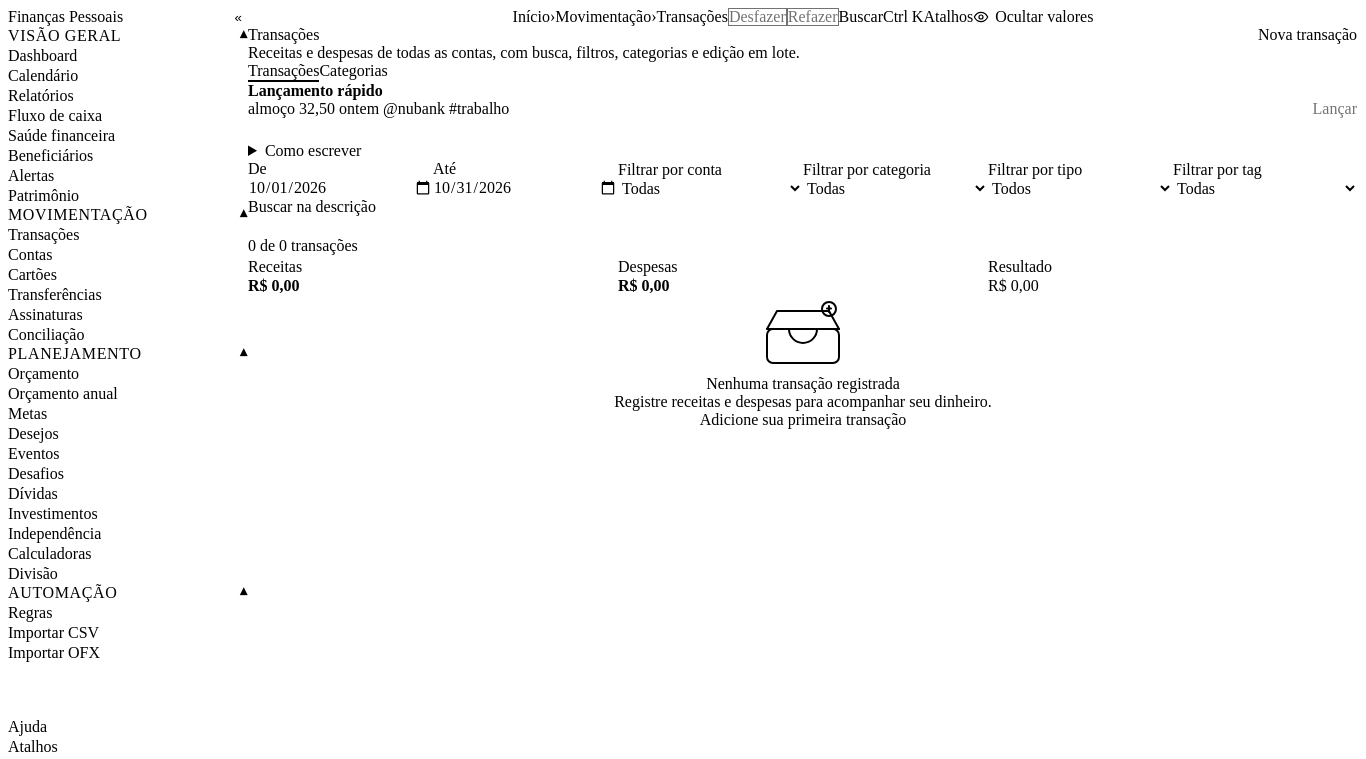
Test: transações: tela › critérios 1 e 3: cria uma despesa filtrando categorias pelo tipo e persiste
Step 1. Click the button "Nova transação" → (1307,35), box [1257, 26, 1358, 44]
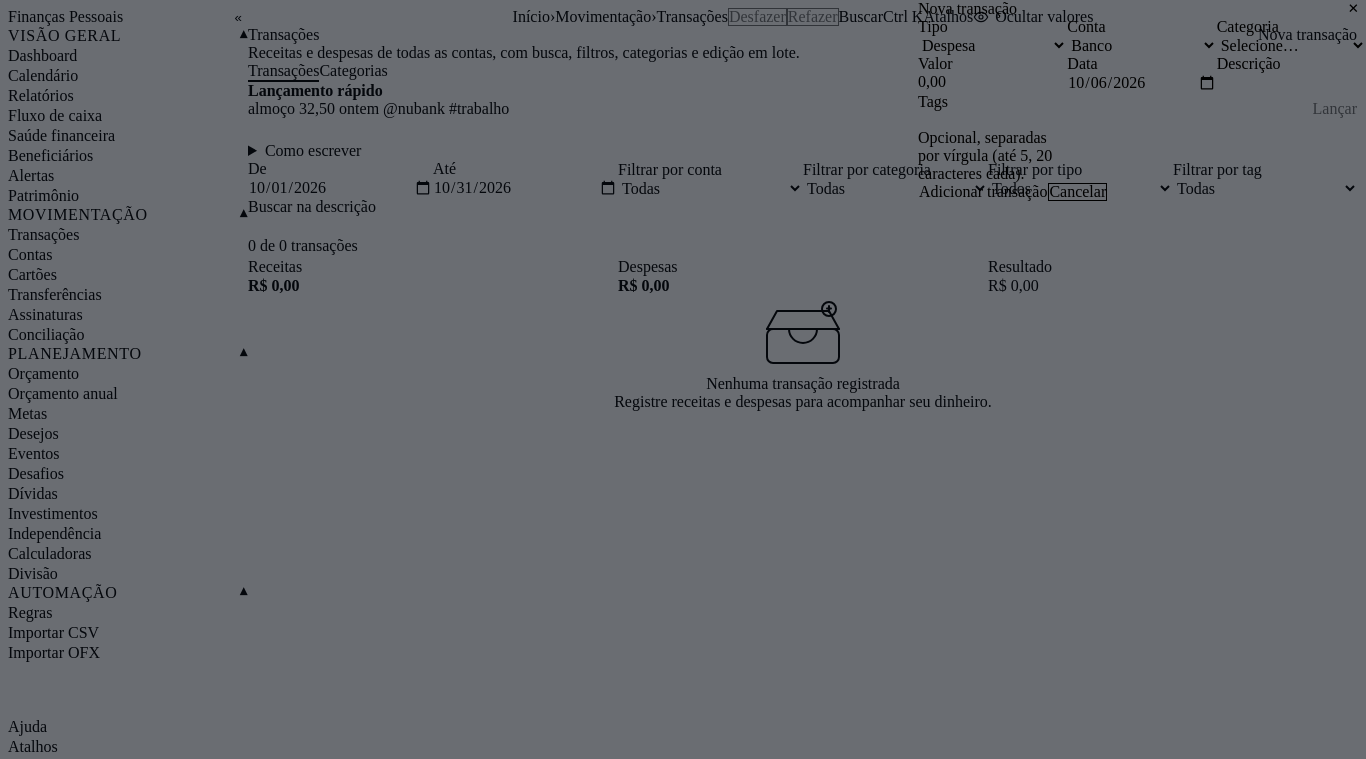
Step 2. Select "Moradia" in the dropdown labelled "Categoria" → (1291,46), box [1217, 36, 1365, 55]
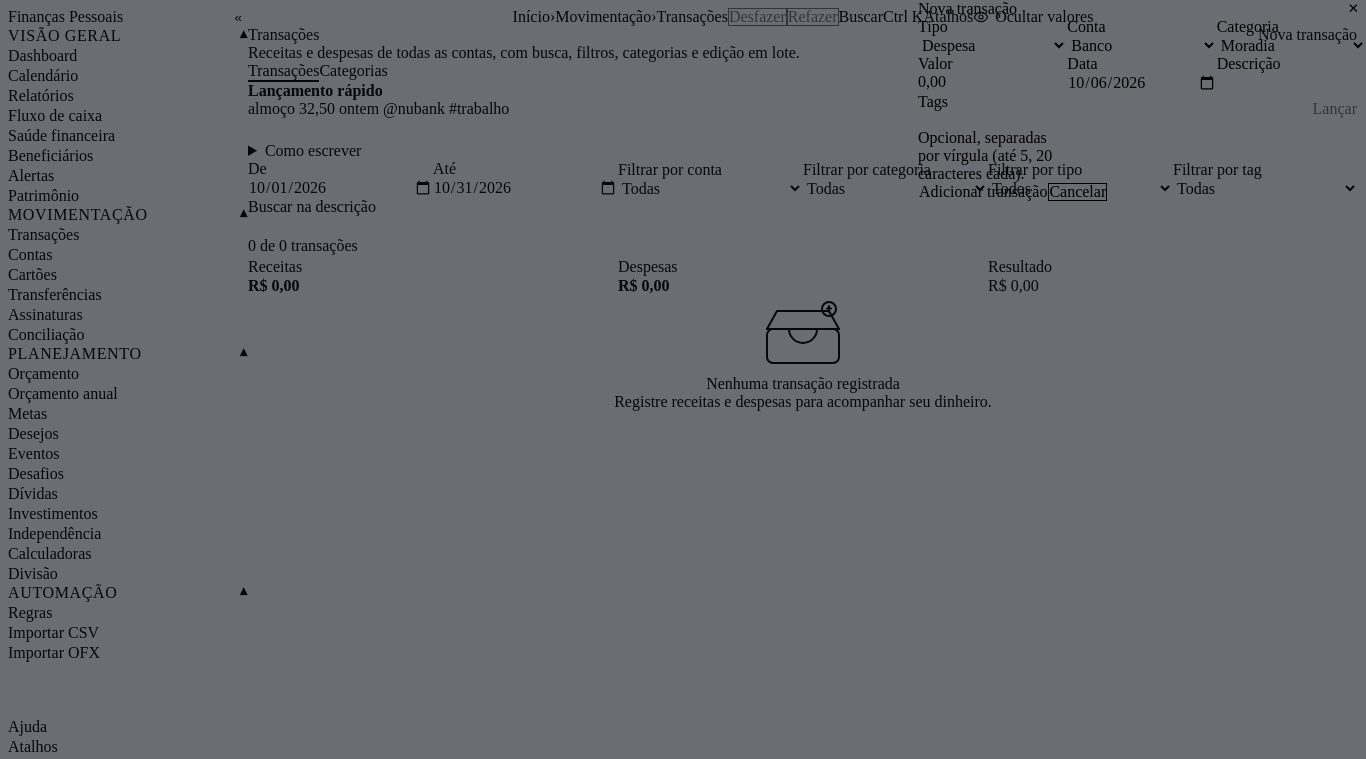
Step 3. Type "150,50" into the field labelled "Valor" → (993,82), box [918, 73, 1067, 91]
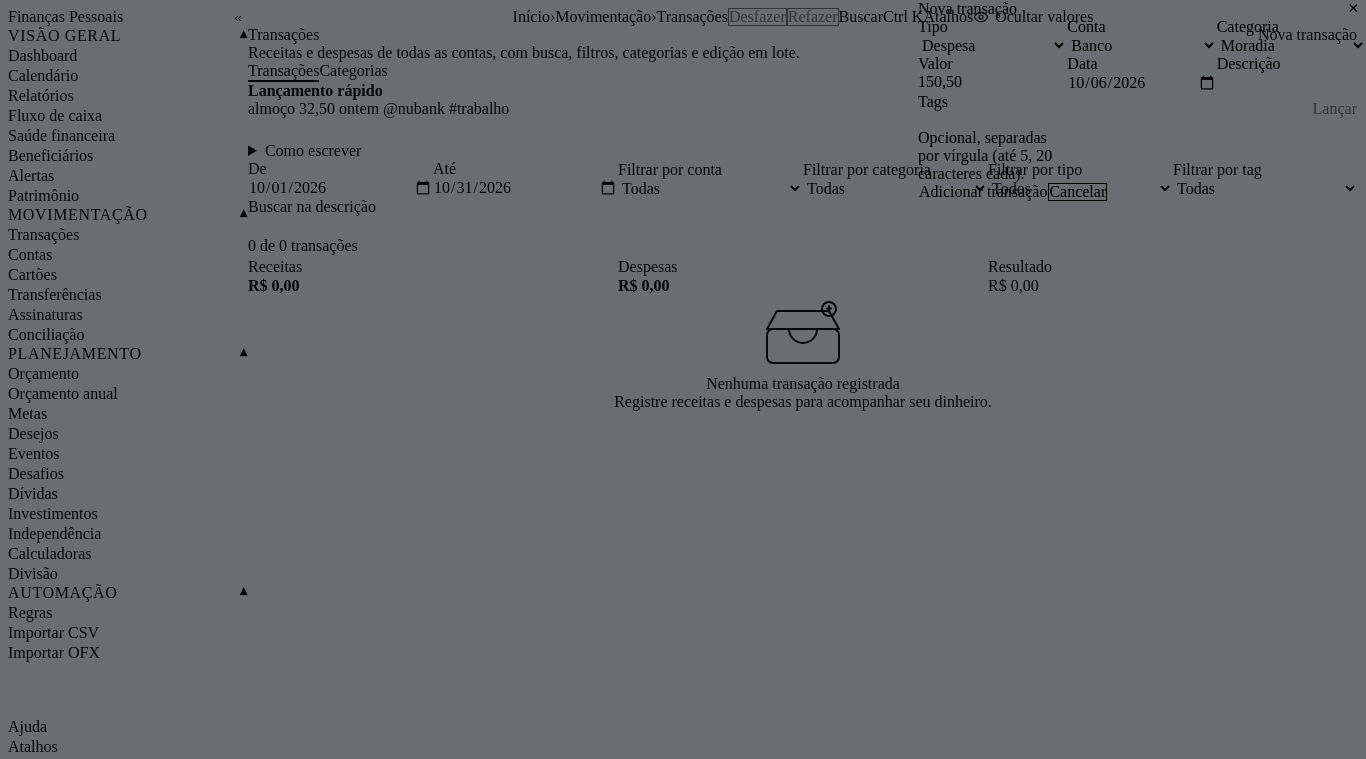
Step 4. Type "Aluguel" into the field labelled "Descrição" → (1291,82), box [1217, 73, 1365, 91]
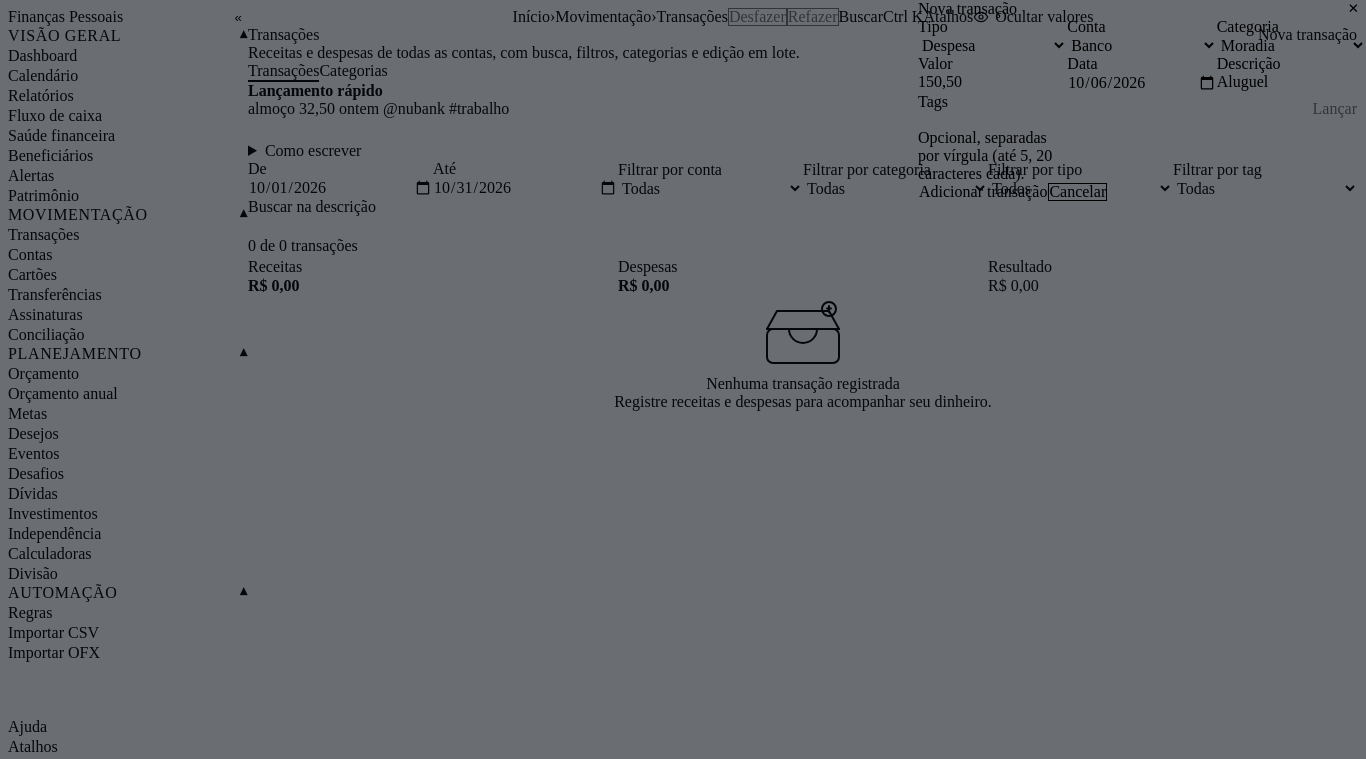
Step 5. Click the button "Adicionar transação" → (983,192), box [918, 183, 1048, 201]
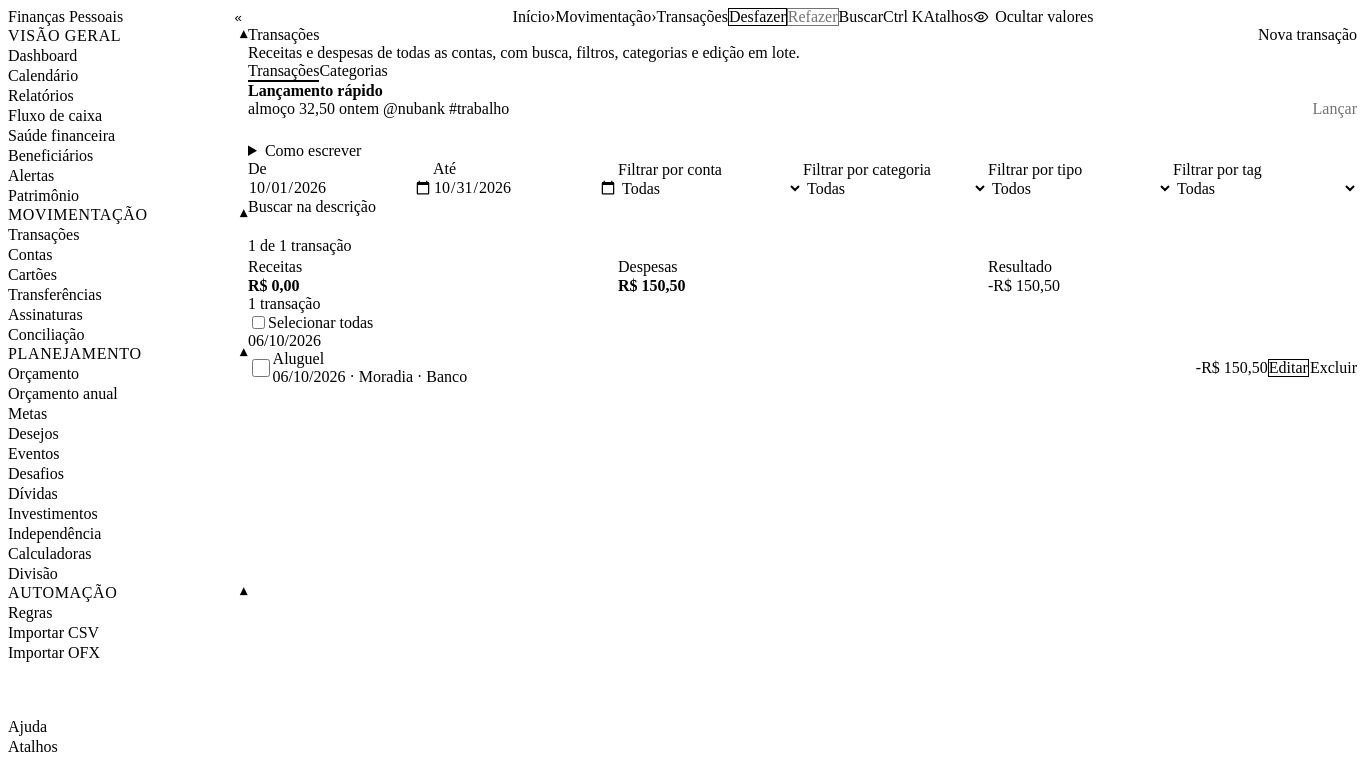
expect the text "-R$ 150,50" in the row of "Aluguel" is shown: met, box [1196, 359, 1268, 376]
expect the text with test id "total-despesas" reads "R$ 150,50": met, box [618, 277, 686, 294]
